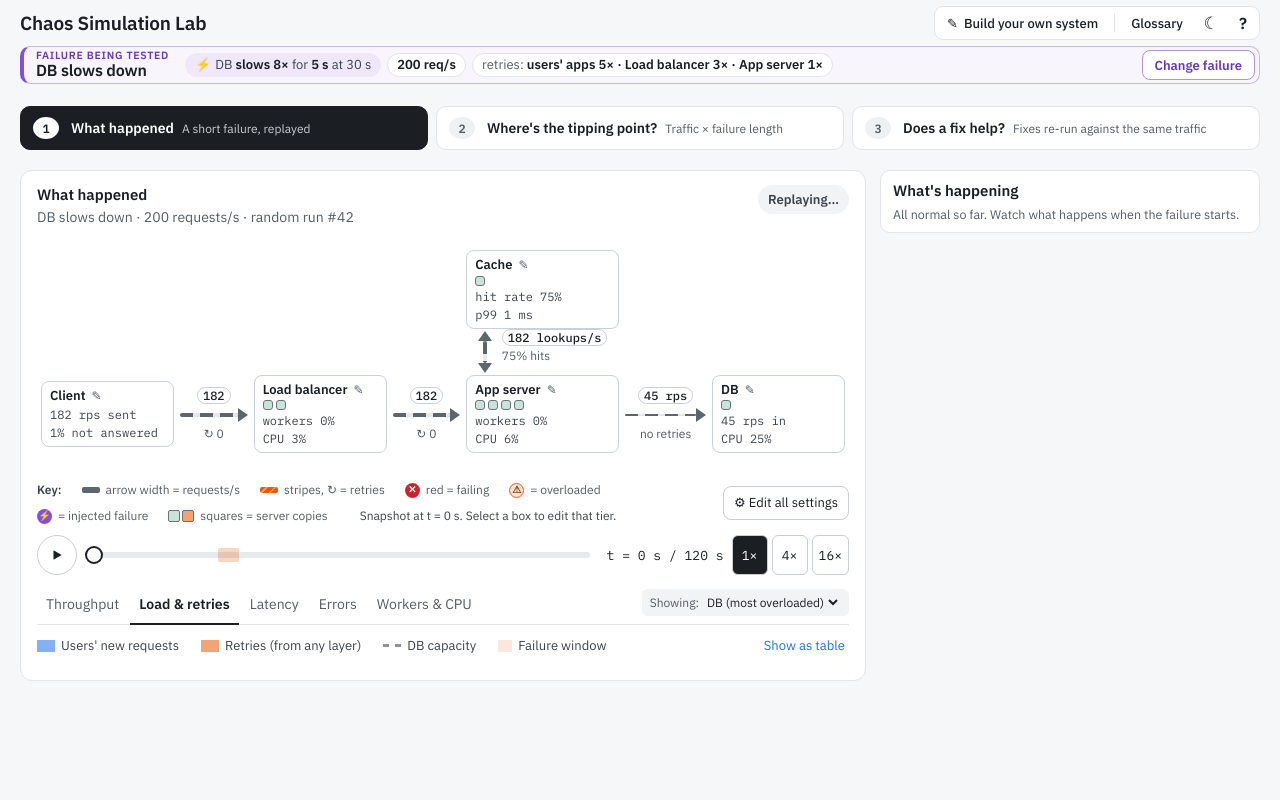
Scenario: App › puts the title and one toolbar of page tools on the first row, and the failure being tested under them
Expected: the heading "What happened" is shown, [37, 185, 147, 204]
Expected: the text "Failure being tested" is shown, [36, 50, 169, 61]
Click the button "✎ Build your own system".
click(1023, 23)  # box [936, 9, 1109, 37]
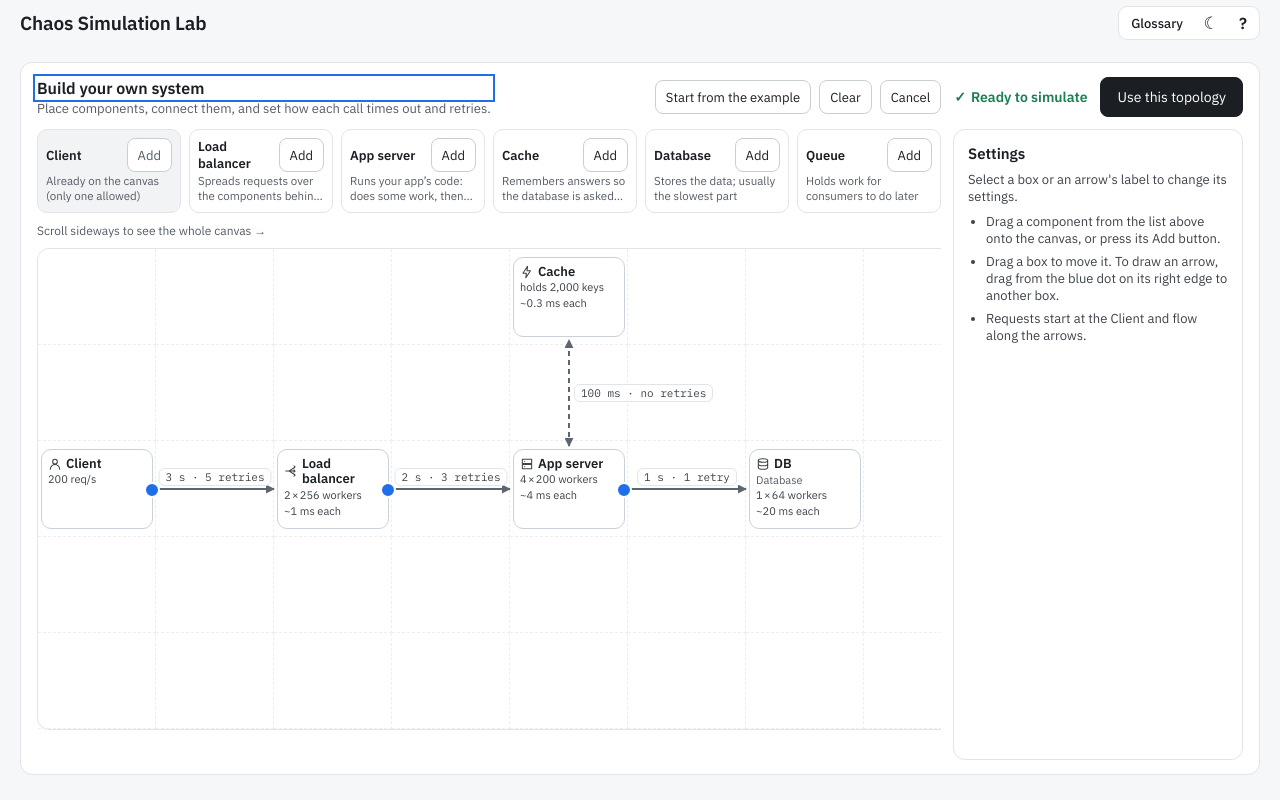
Expected: the element "Scenario" is gone
